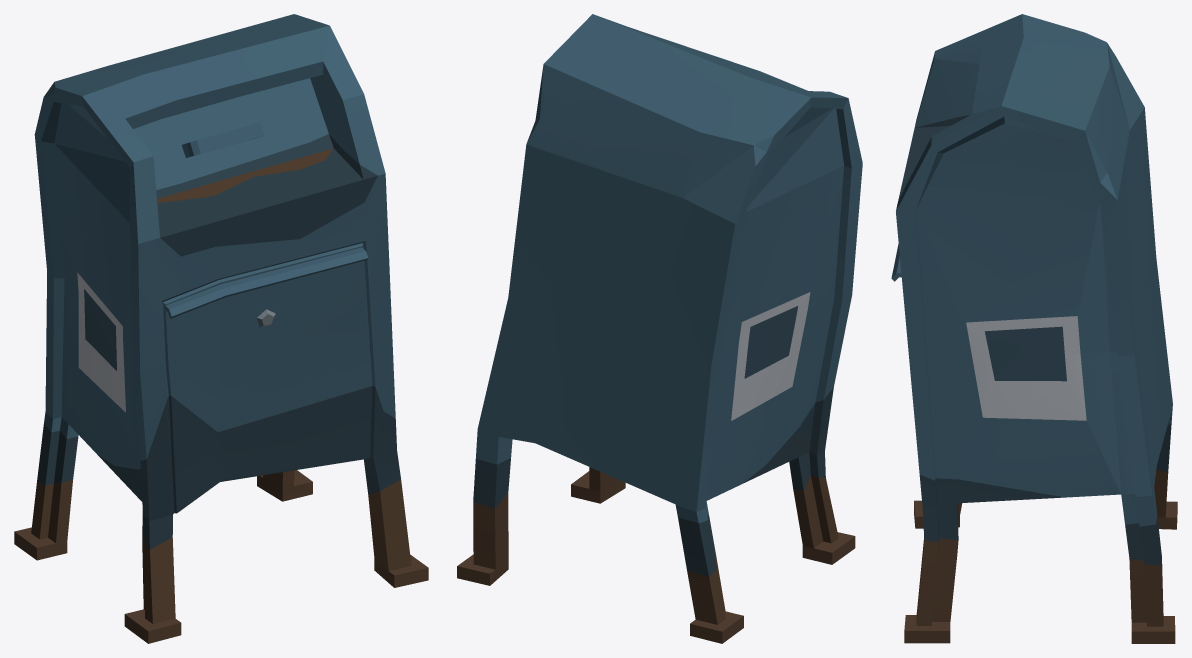
File: SM_Prop_Mailbox_01_517.obj
3 views of the same model, side by side, from view 1: azimuth 30°, elevation 25°; view 2: azimuth 150°, elevation 25°; view 3: azimuth 270°, elevation 25° (orthographic). The views are drawn at different scales.
Visible parts, largest first — view 1: SM_Prop_Mailbox_01_0; view 2: SM_Prop_Mailbox_01_0; view 3: SM_Prop_Mailbox_01_0.
Boxes of the visible parts, <box> form: SM_Prop_Mailbox_01_0: <box>14,14,428,643</box>; SM_Prop_Mailbox_01_0: <box>457,14,862,643</box>; SM_Prop_Mailbox_01_0: <box>891,14,1177,643</box>.
Size of the model in its own units: 0.6903 by 1.22 by 0.6137.
Materials: 1 (1 with a texture image).
